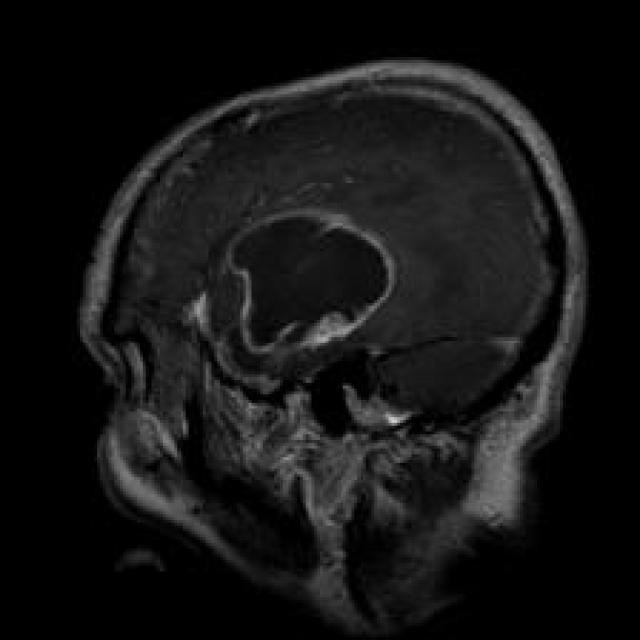glioma_tumor: (217, 198, 405, 372)
